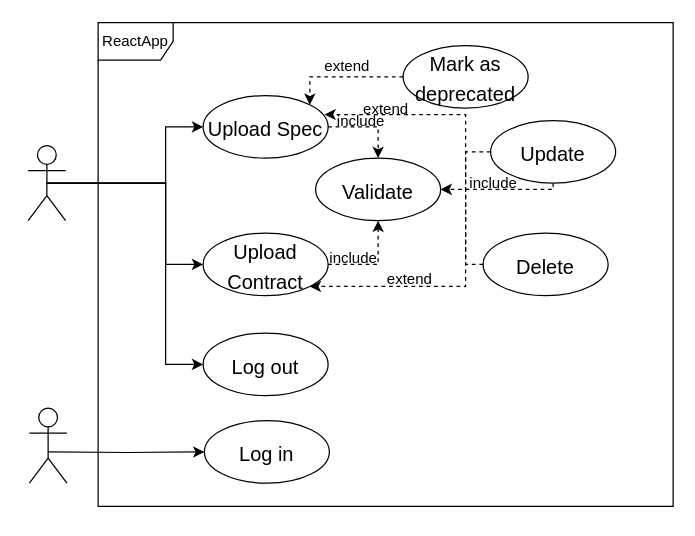
This 695x536 diagram has some shape labels left out. The shapes that lost their labels are listed below. From the top down, each one's centre as x and y in pixels, then its label:
At [46,182]: "User".
At [47,445]: "Guest".
